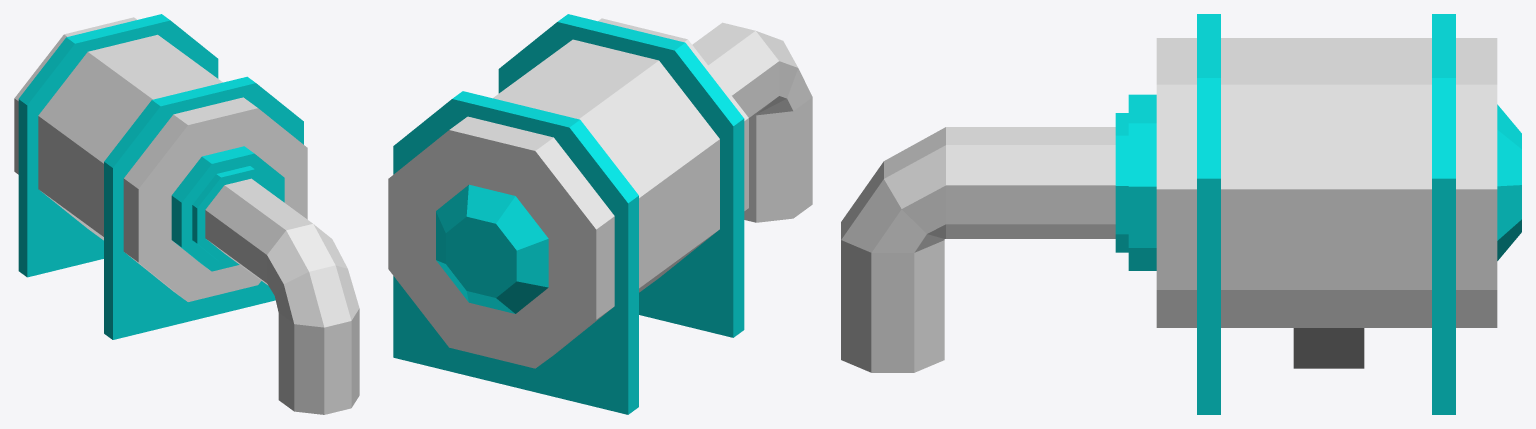
The model's file is WaterPump.fbx.
3 views of the same model, side by side, from view 1: azimuth 30°, elevation 25°; view 2: azimuth 150°, elevation 25°; view 3: azimuth 270°, elevation 25° (orthographic). The views are drawn at different scales.
Visible parts, largest first — view 1: Cylinder, Cube.004, Cube.005; view 2: Cylinder, Cube.005, Cube.004; view 3: Cylinder, Cube.004, Cube.005.
Part boxes in pixels (box(x1,y1,x2,y2)): Cylinder: box(14, 17, 359, 414); Cube.004: box(104, 76, 303, 339); Cube.005: box(18, 14, 218, 277); Cylinder: box(388, 18, 812, 368); Cube.005: box(393, 91, 638, 414); Cube.004: box(498, 14, 744, 337); Cylinder: box(841, 38, 1521, 372); Cube.004: box(1197, 14, 1220, 414); Cube.005: box(1432, 14, 1455, 414).
Bounding box in the file's own units: 108 × 120 × 243.
